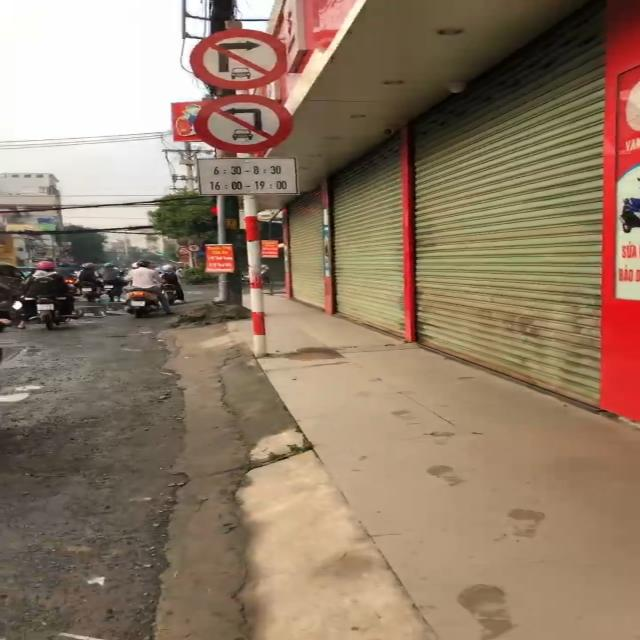Bien bao cam xe o to re phai: (183, 26, 303, 94)
Bien bao cam xe o to re trai: (185, 92, 304, 154)
